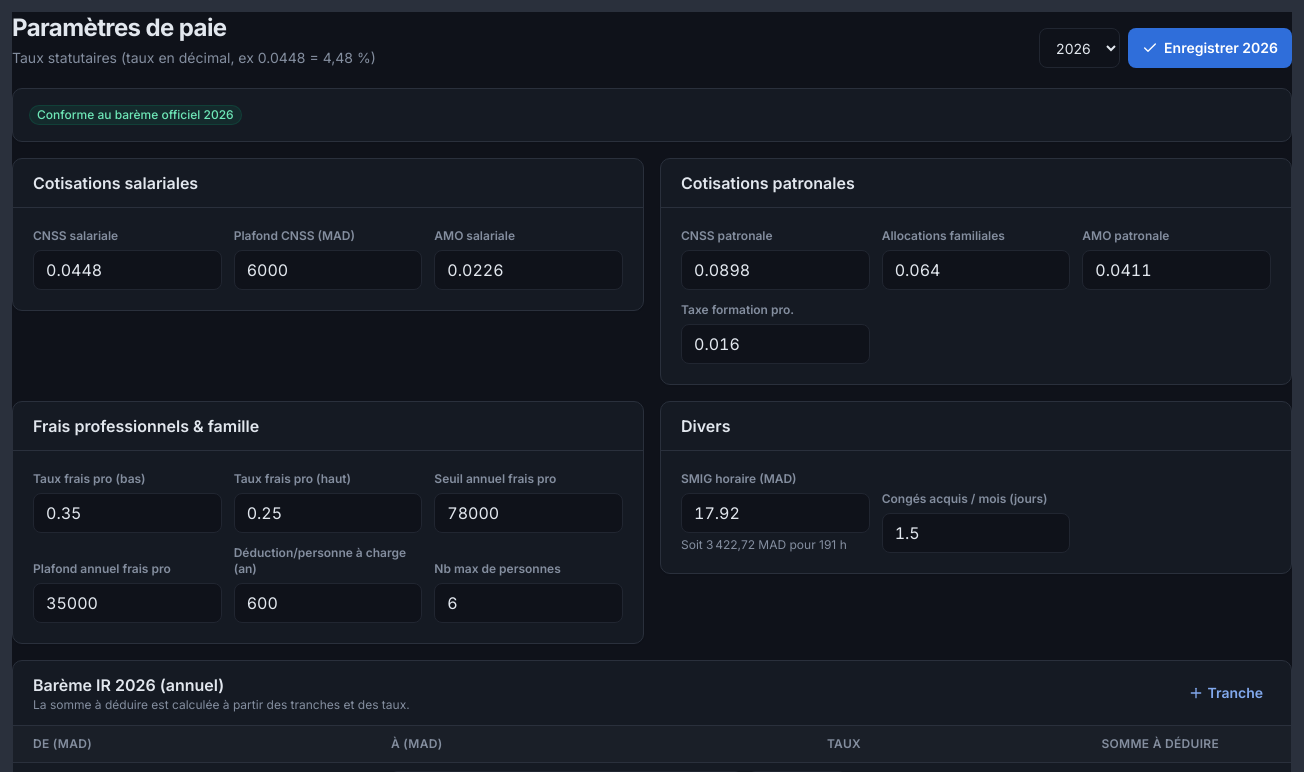
Scenario: payroll settings page › offers the 2027 bill behind a confirmation, never by itself
Check: the text "Conforme au barème officiel 2026" is shown, box [29, 105, 242, 125]
Select "2027" in the dropdown named "Année" at {"x": 1080, "y": 48}, box [1039, 28, 1120, 68]
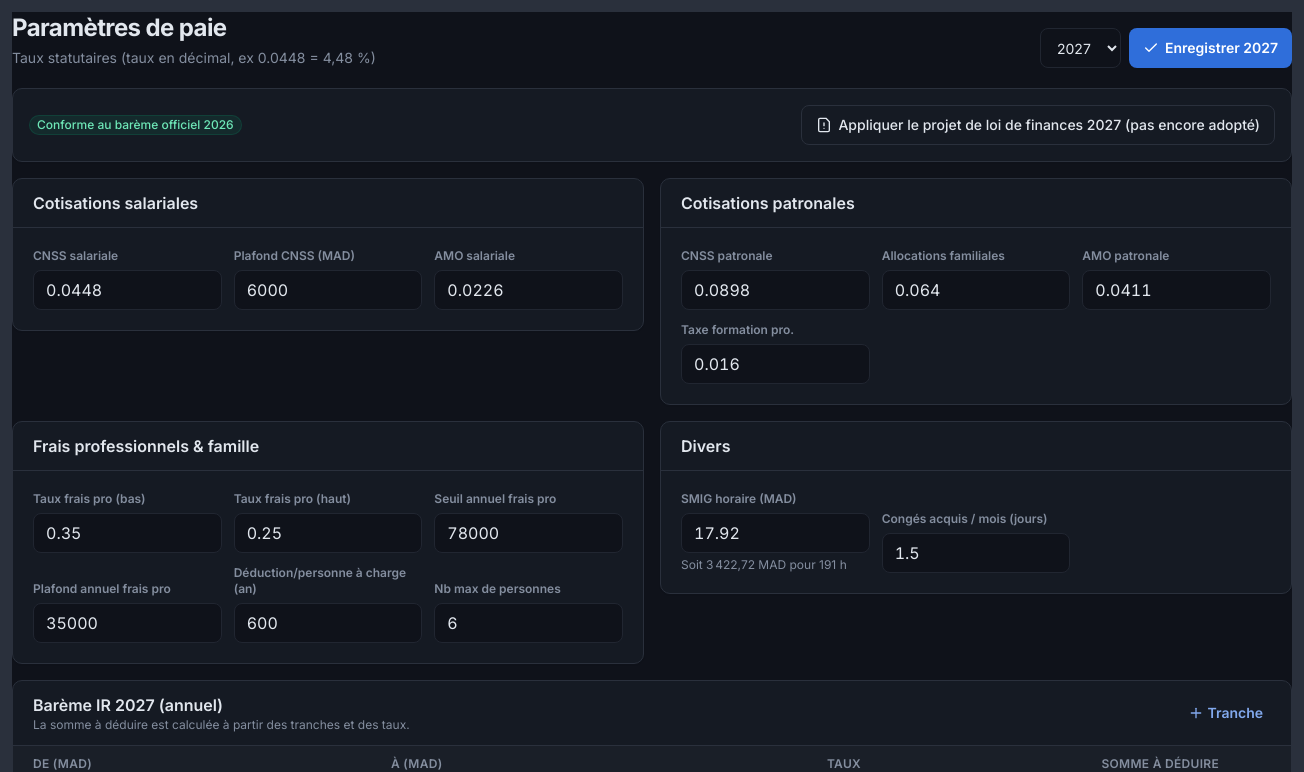
Check: the text "Conforme au barème officiel 2026" is shown, box [29, 115, 242, 135]
Click the button "Appliquer le projet de loi de finances 2027 (pas encore adopté)" at {"x": 1038, "y": 125}, box [801, 105, 1275, 145]
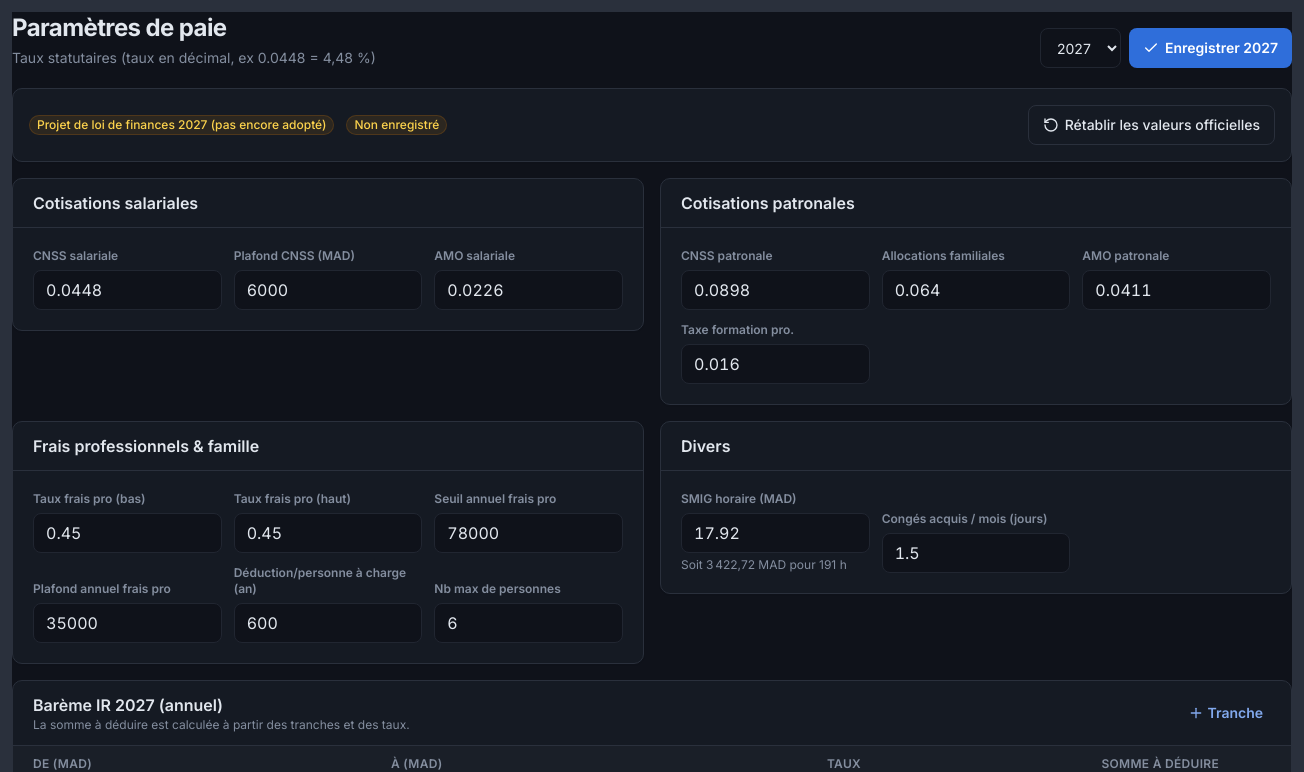
Check: the text "Projet de loi de finances 2027 (pas encore adopté)" is shown, box [29, 115, 334, 135]
